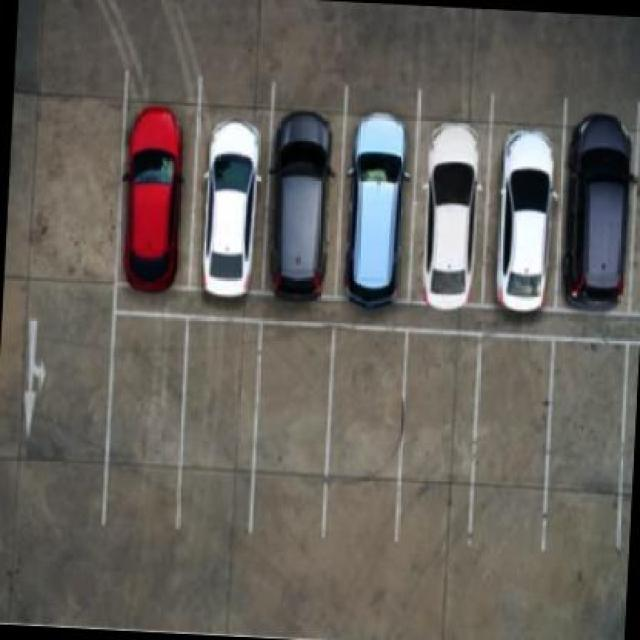Car: (547, 89, 640, 313), (115, 98, 199, 307), (340, 93, 417, 318), (417, 99, 491, 332), (483, 124, 563, 332), (267, 101, 343, 310), (193, 109, 272, 310)
Empty: (537, 347, 626, 580), (472, 344, 549, 573), (178, 324, 259, 540), (404, 338, 480, 562), (109, 316, 184, 529), (257, 326, 331, 541), (329, 330, 404, 541)
